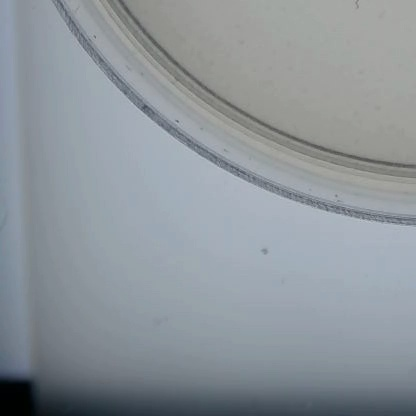worm: (346, 0, 363, 24)
